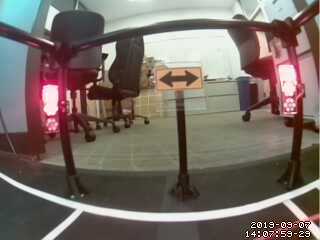Left_Right_sign: (151, 64, 208, 89)
Traffic_light_red: (276, 65, 302, 123), (43, 85, 58, 136)
